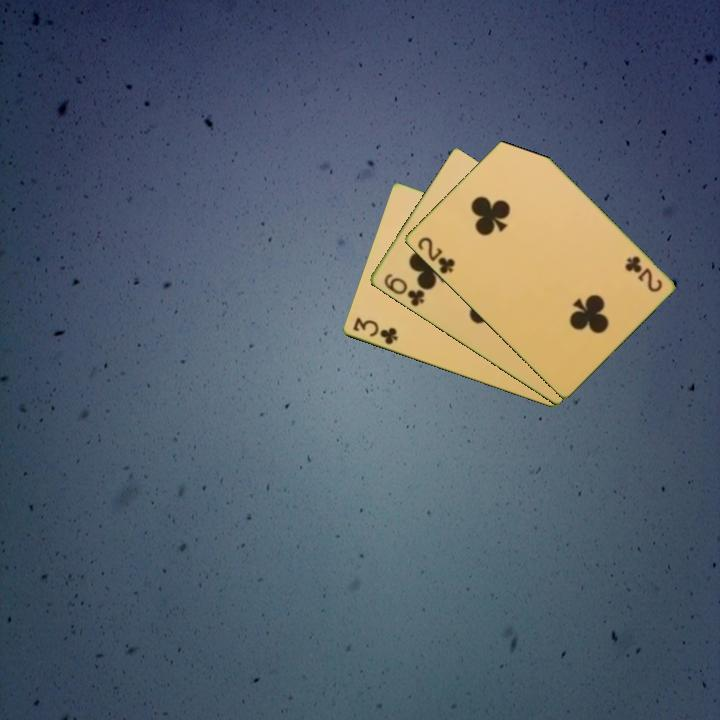2c: (414, 233, 458, 277), (621, 252, 665, 295)
3c: (349, 314, 400, 348)
6c: (380, 270, 427, 310)
